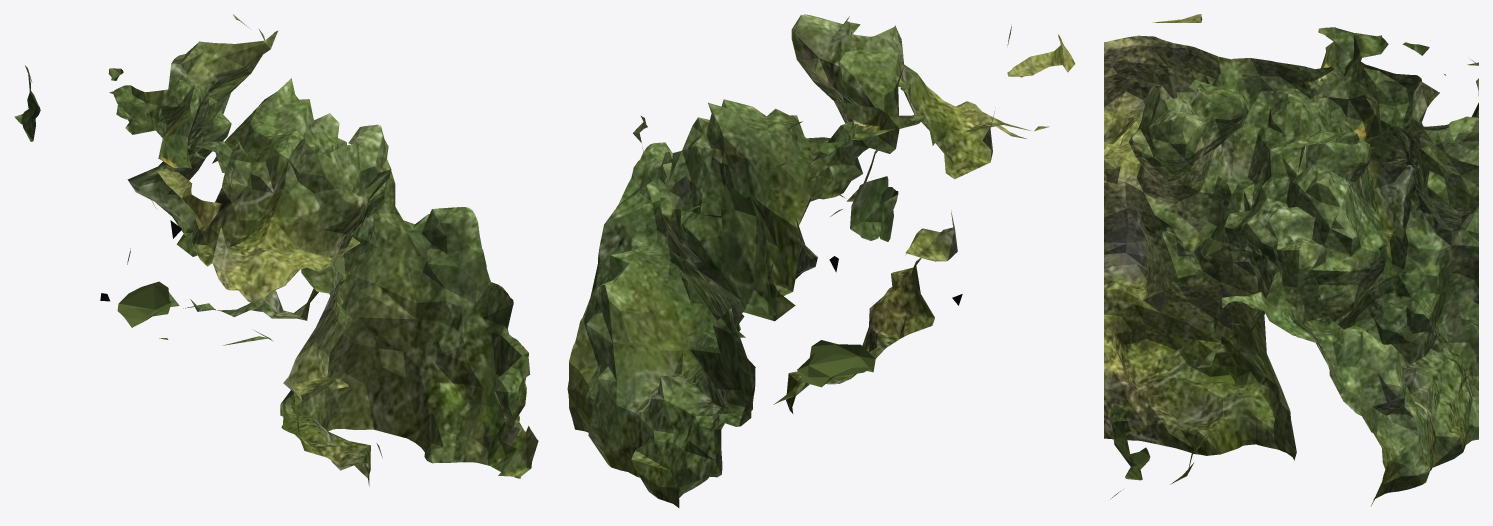
The picture shows the model from 3 angles, left to right: view 1: azimuth 30°, elevation 25°; view 2: azimuth 150°, elevation 25°; view 3: azimuth 270°, elevation 25°; orthographic projection. The views are drawn at different scales.
Bounding box in the file's own units: 5.9 × 5.9 × 5.9.
Materials: 6 (6 with a texture image).
